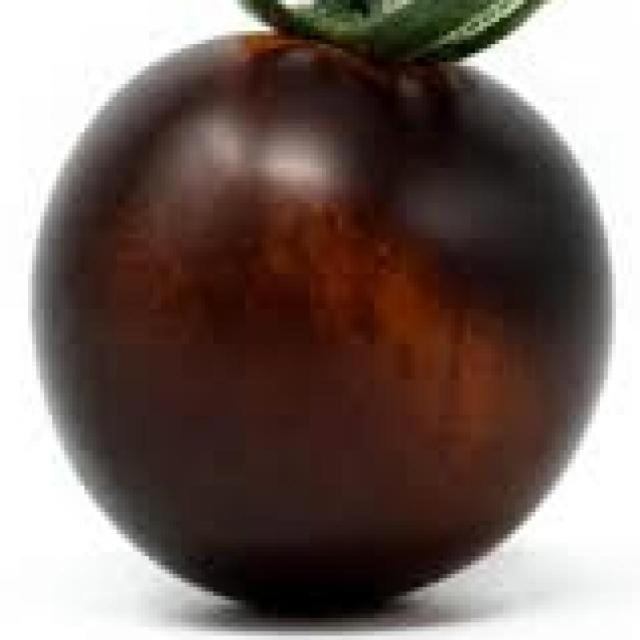Healthy Fruit: (19, 4, 422, 427)
